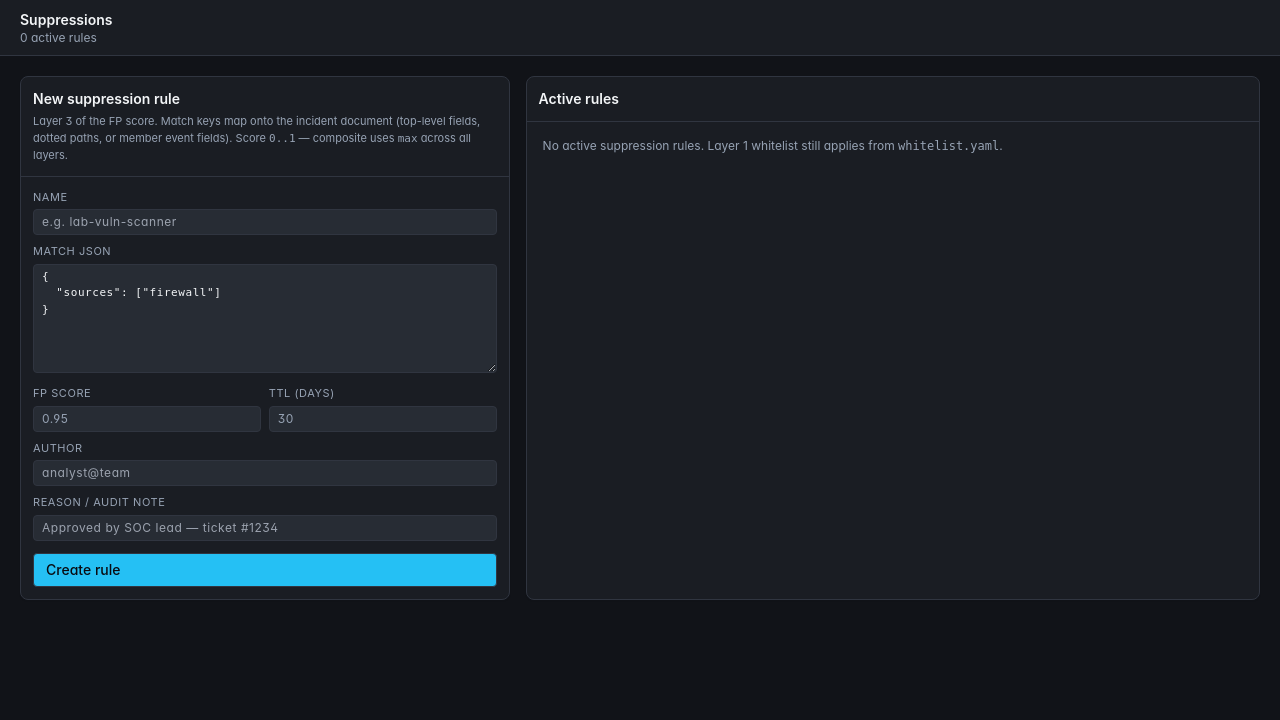
Scenario: SuppressionsPage › shows a parse error when match JSON is invalid
The width and height of the screenshot is (1280, 720).
Replace the text in the text box showing "sources" with "not-json" at (265, 318), box [33, 264, 497, 372]
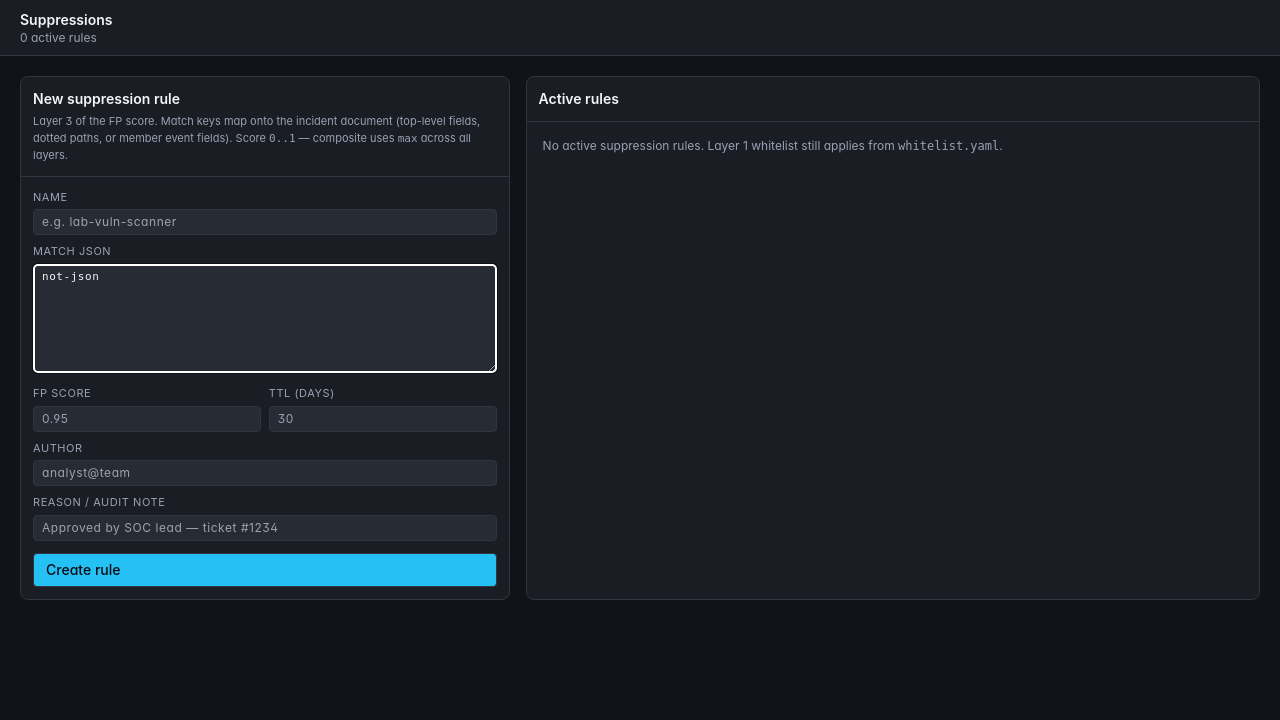
Click the button "Create rule" at (83, 569), box [33, 552, 497, 586]
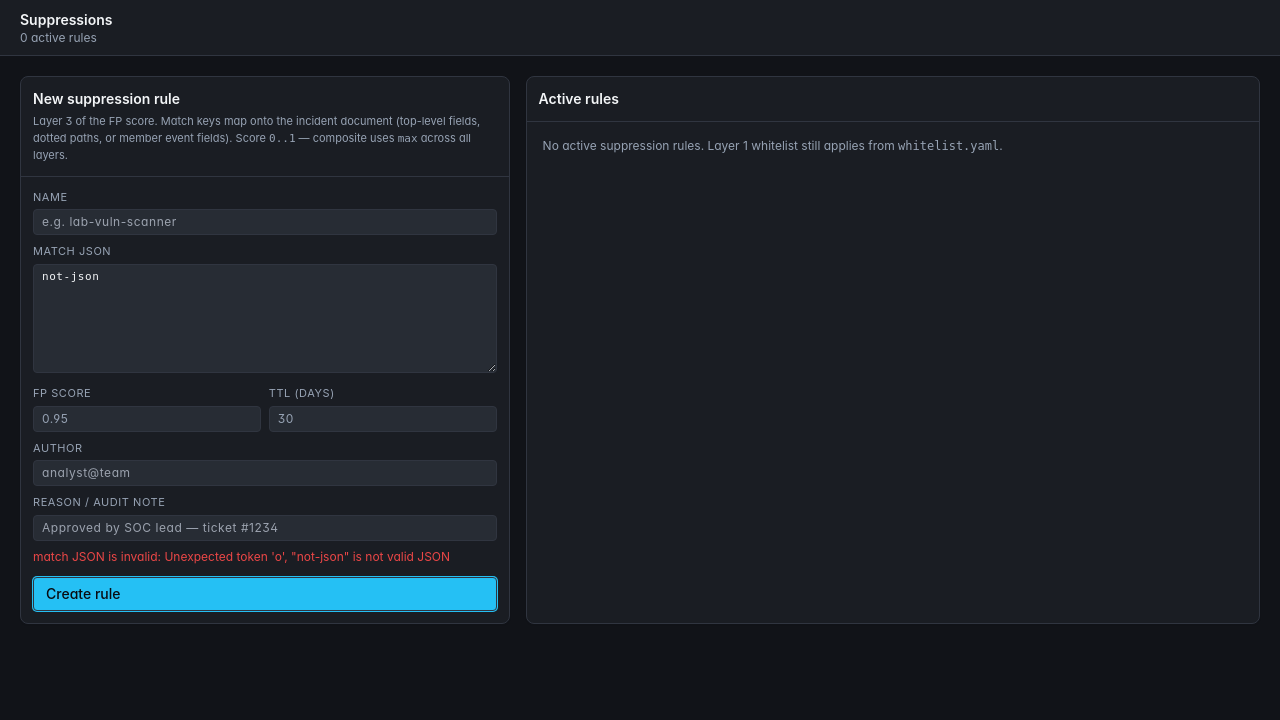
Check: the text "match JSON is invalid" is shown, box [33, 548, 450, 564]
